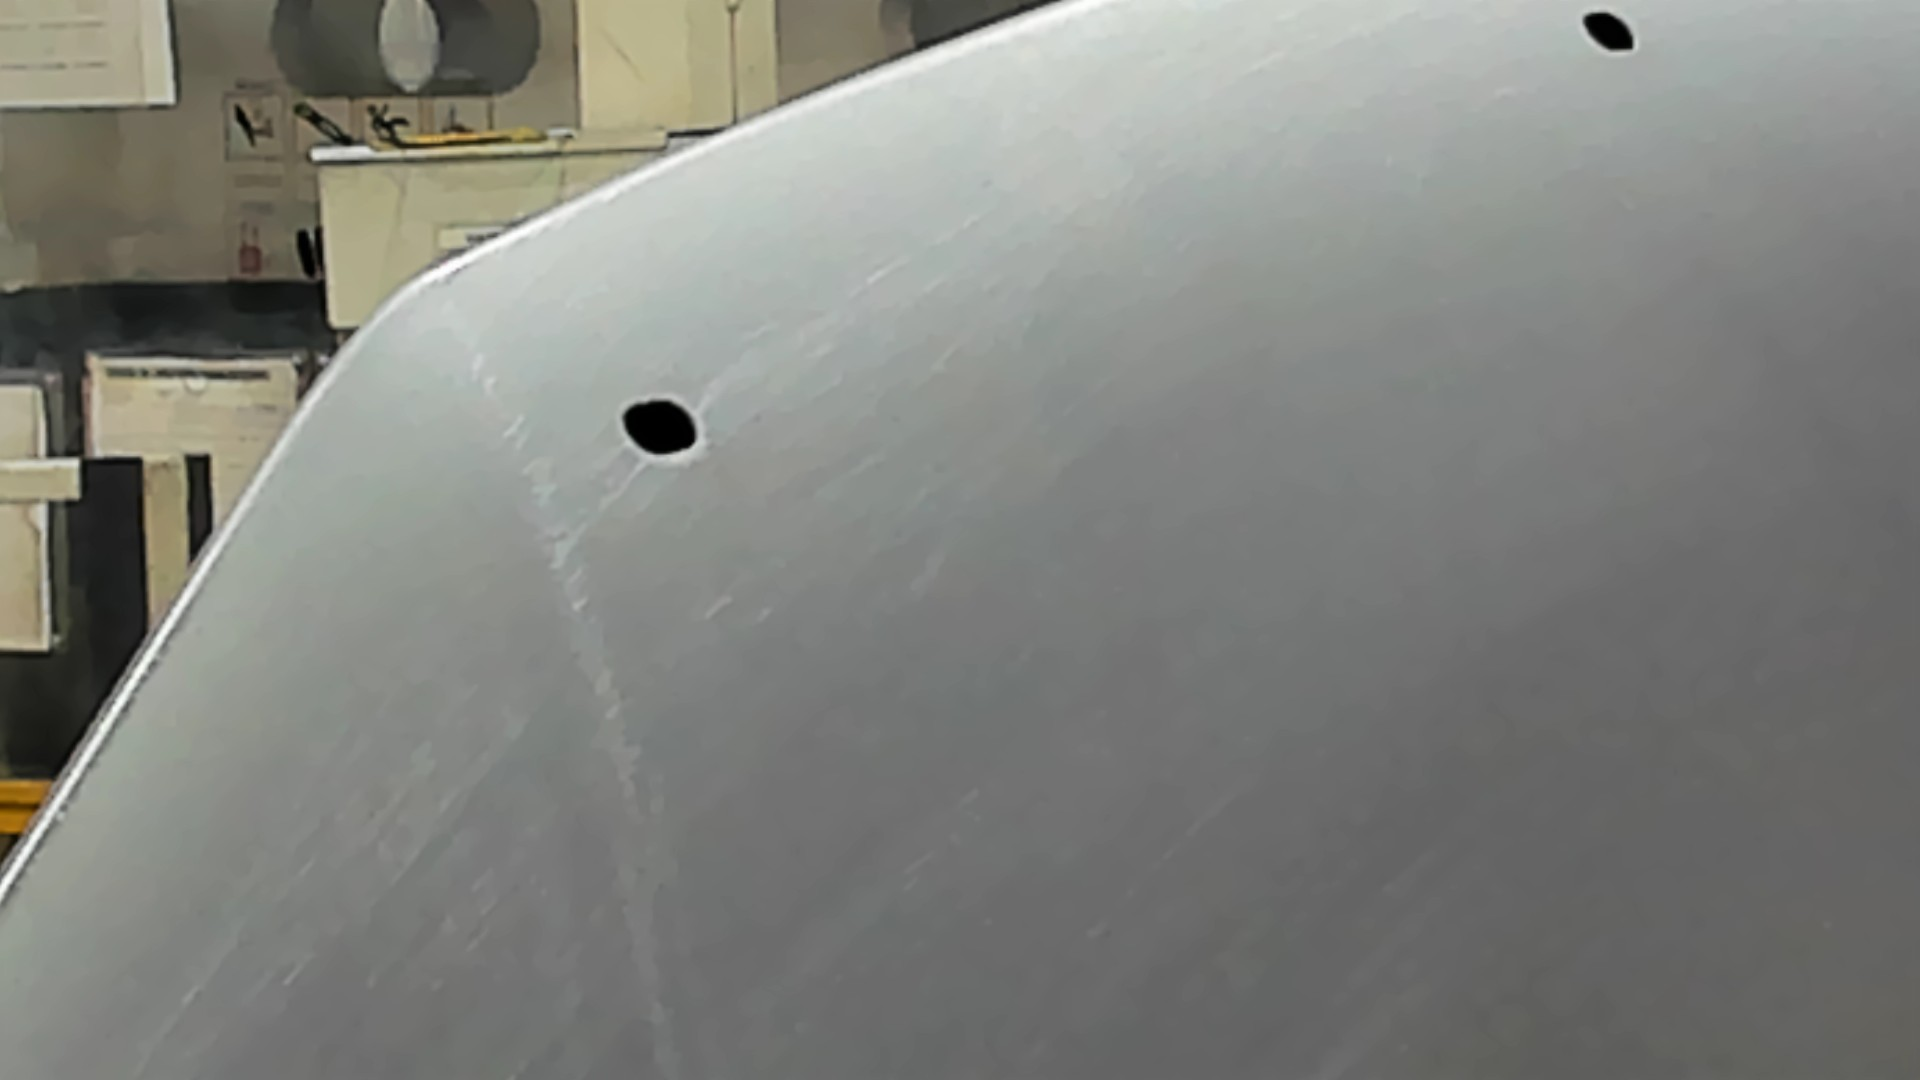Agujero: (618, 397, 702, 458), (1578, 9, 1636, 55)
